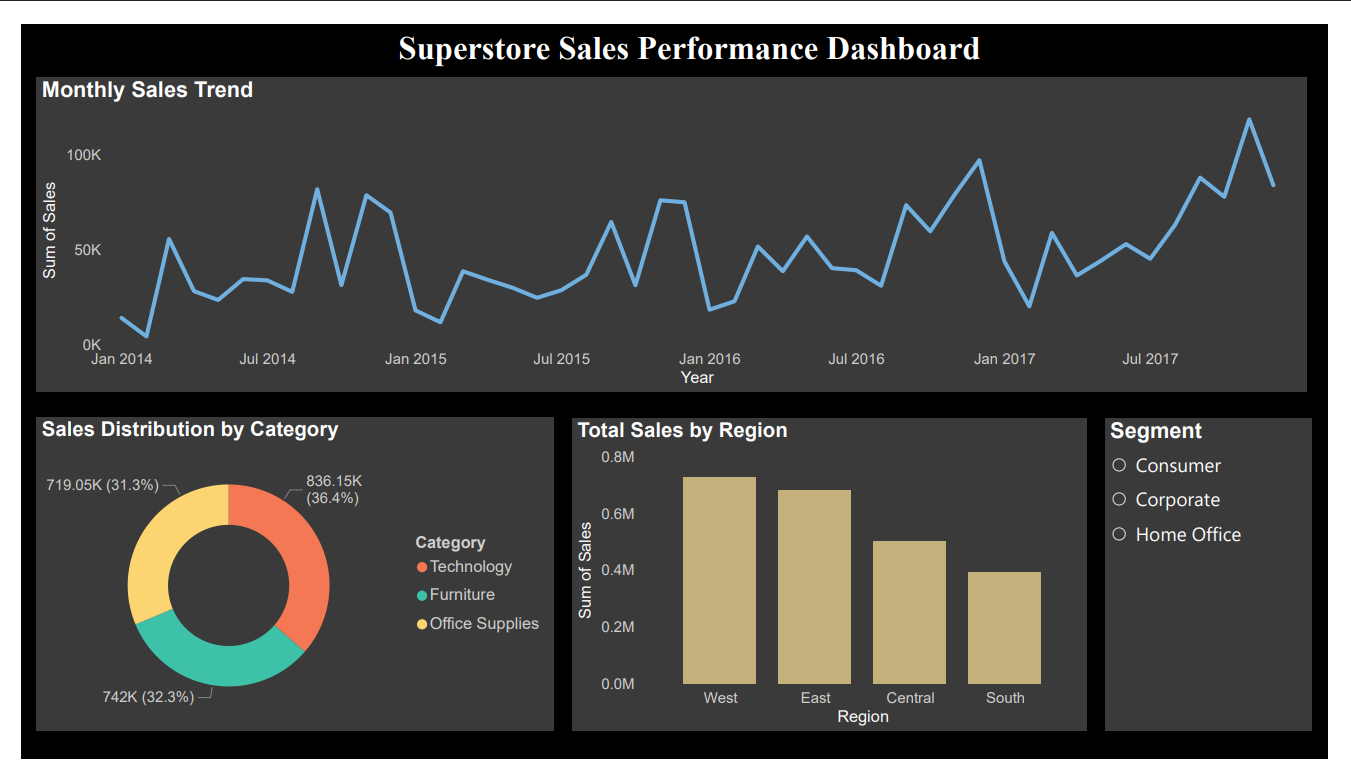

The dashboard page shown, as its layout file describes it:
{"tool":"powerbi","page":{"name":"Page 1","canvas":[1280,720],"ordinal":0},"visuals":[{"type":"lineChart","title":"Monthly Sales Trend","fields":{"Category":["Orders.Order Date.Variation.Date Hierarchy.Year","Orders.Order Date.Variation.Date Hierarchy.Month"],"Y":["Sum(Orders.Sales)"]},"box":[15,51.7,1245,308.3],"z":0},{"type":"textbox","box":[308.1,0,694.1,51.4],"z":1000},{"type":"clusteredColumnChart","title":"Total Sales by Region","fields":{"Category":["Orders.Region"],"Y":["Sum(Orders.Sales)"]},"box":[540,386,504,306],"z":2000},{"type":"donutChart","title":"Sales Distribution by Category","fields":{"Category":["Orders.Category"],"Y":["Sum(Orders.Sales)"]},"box":[15,385,506.7,306.7],"z":3000},{"type":"listSlicer","fields":{"Values":["Orders.Segment"]},"box":[1062,386,202,306],"z":4000}]}

Visuals, with their boxes in screenshot pixels (x1, y1, x2, y2), scaled from the page's 1280x720 canvas onto the 1351x783 screenshot:
"Monthly Sales Trend" lineChart: 16:56:1330:391
textbox: 325:0:1058:56
"Total Sales by Region" clusteredColumnChart: 570:420:1102:753
"Sales Distribution by Category" donutChart: 16:419:551:752
listSlicer - Orders.Segment: 1121:420:1334:753
